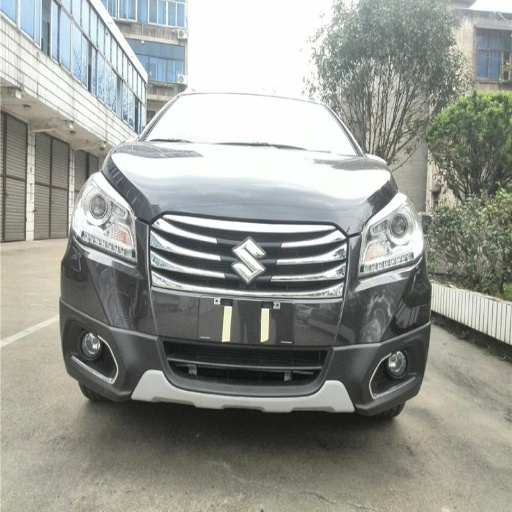front_bumper: (61, 213, 430, 415)
front_right_light: (72, 172, 138, 267)
